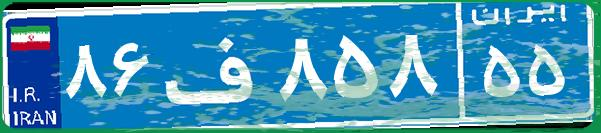5: (330, 28, 385, 110), (475, 38, 525, 113), (525, 38, 570, 115)
6: (110, 28, 158, 105)
8: (385, 28, 445, 110), (273, 28, 330, 110), (57, 26, 110, 107)
ف: (158, 15, 273, 115)
